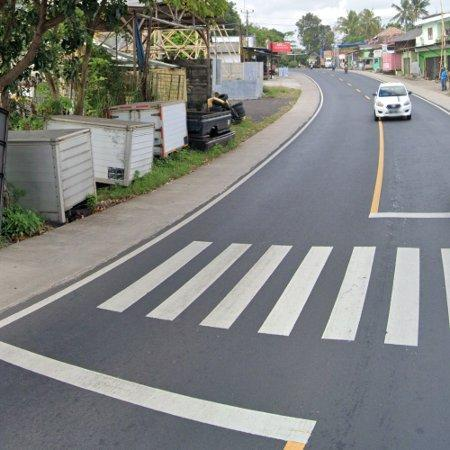crosswalks: (99, 240, 450, 345)
